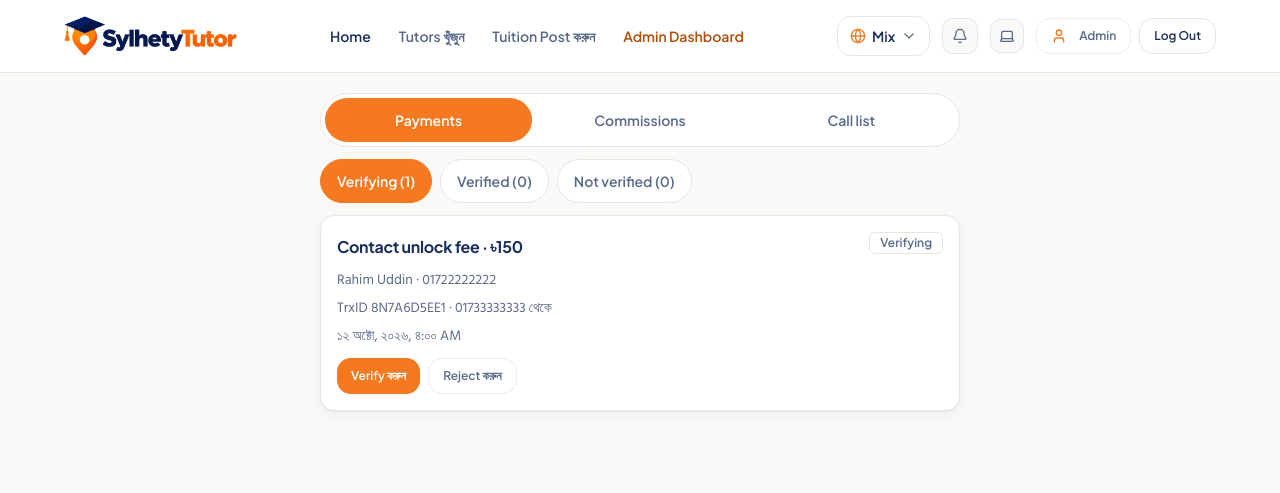
Test: PaymentsAdmin page › explains a payment someone else already decided
Click the button "Verify করুন" at (379, 376), box [337,358,420,394]
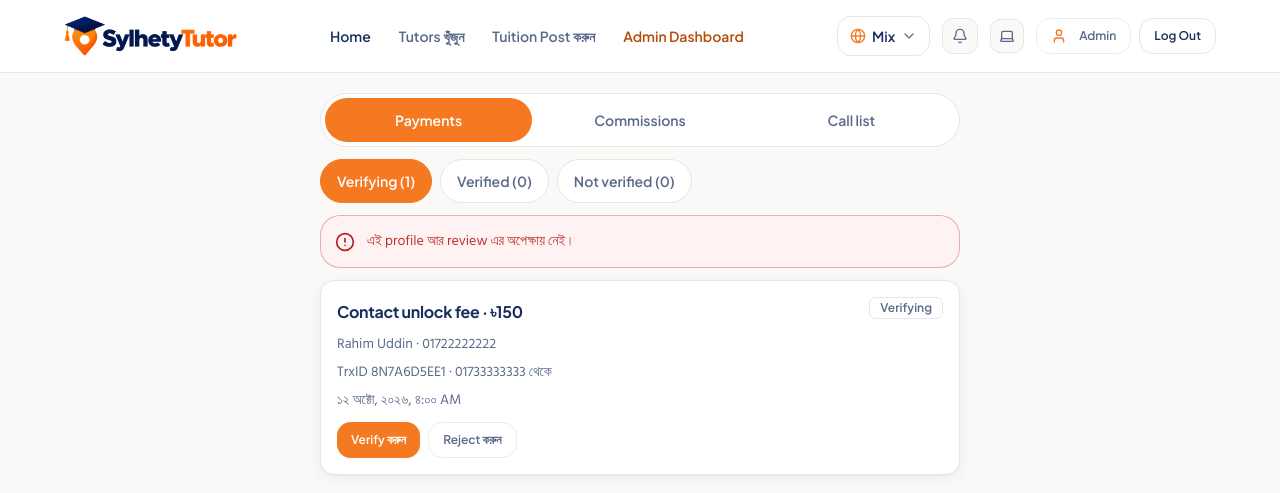
Check: the text "এই profile আর review এর অপেক্ষায় নেই।" is shown, box [367,229,575,252]
